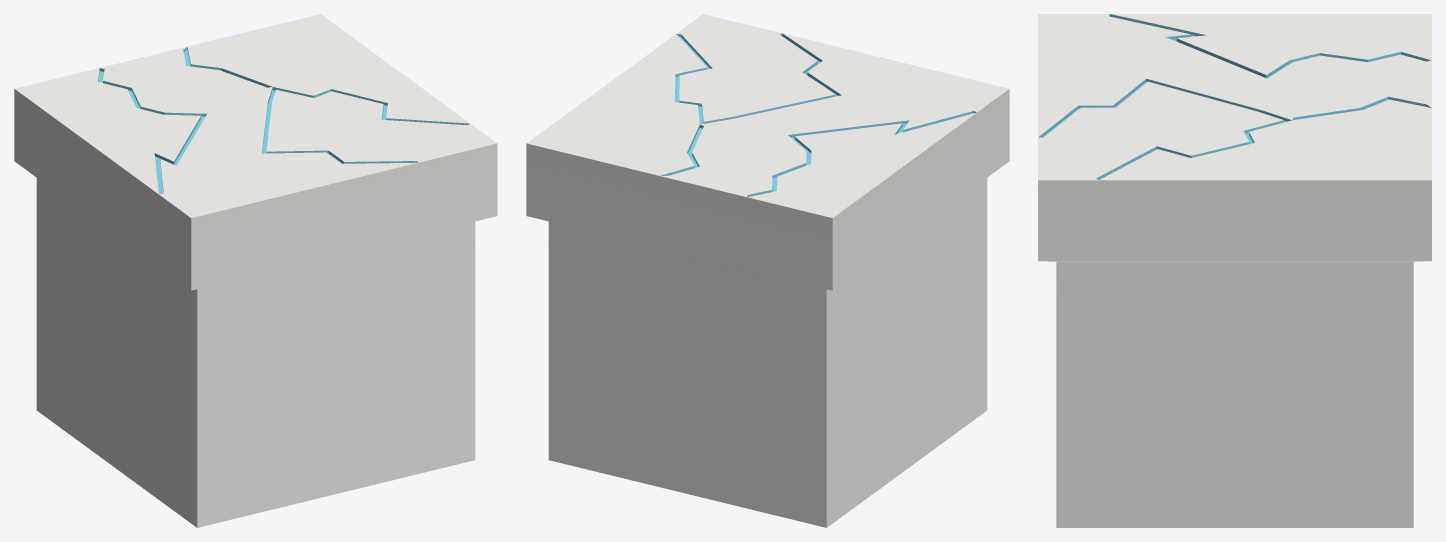
Rendered from SoloGeleiraQuebrada.glb.
The picture shows the model from 3 angles, left to right: view 1: azimuth 30°, elevation 25°; view 2: azimuth 150°, elevation 25°; view 3: azimuth 270°, elevation 25°; orthographic projection. The views are drawn at different scales.
Visible parts, largest first — view 1: SoloGeleiraQuebrada; view 2: SoloGeleiraQuebrada; view 3: SoloGeleiraQuebrada.
Boxes of the visible parts, box(x1,y1,x2,y2) form: SoloGeleiraQuebrada: box(14, 14, 497, 527); SoloGeleiraQuebrada: box(526, 14, 1009, 527); SoloGeleiraQuebrada: box(1038, 14, 1431, 527).
Size of the model in its own units: 2 by 1.99 by 2.
1 material, 1 textured.
